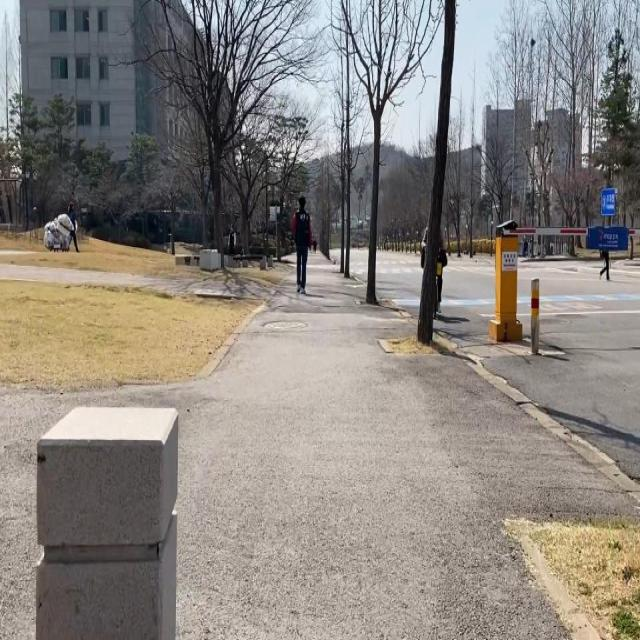sidewalk: (0, 267, 640, 638)
